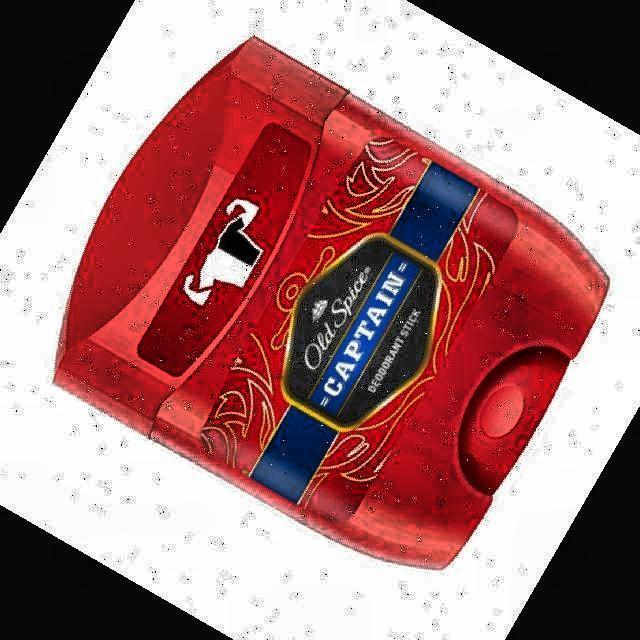plastic: (55, 38, 609, 567)
